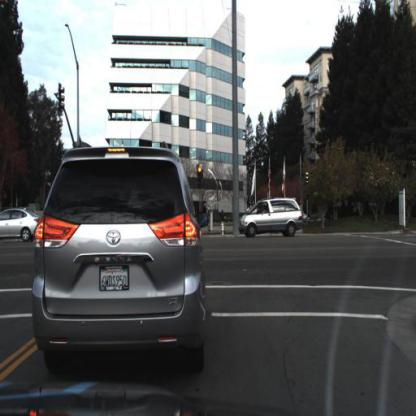car: (31, 140, 211, 375), (239, 198, 303, 240), (1, 208, 42, 243)
pedestrian: (220, 208, 227, 233)
trafficLight-Red: (196, 162, 204, 190)
